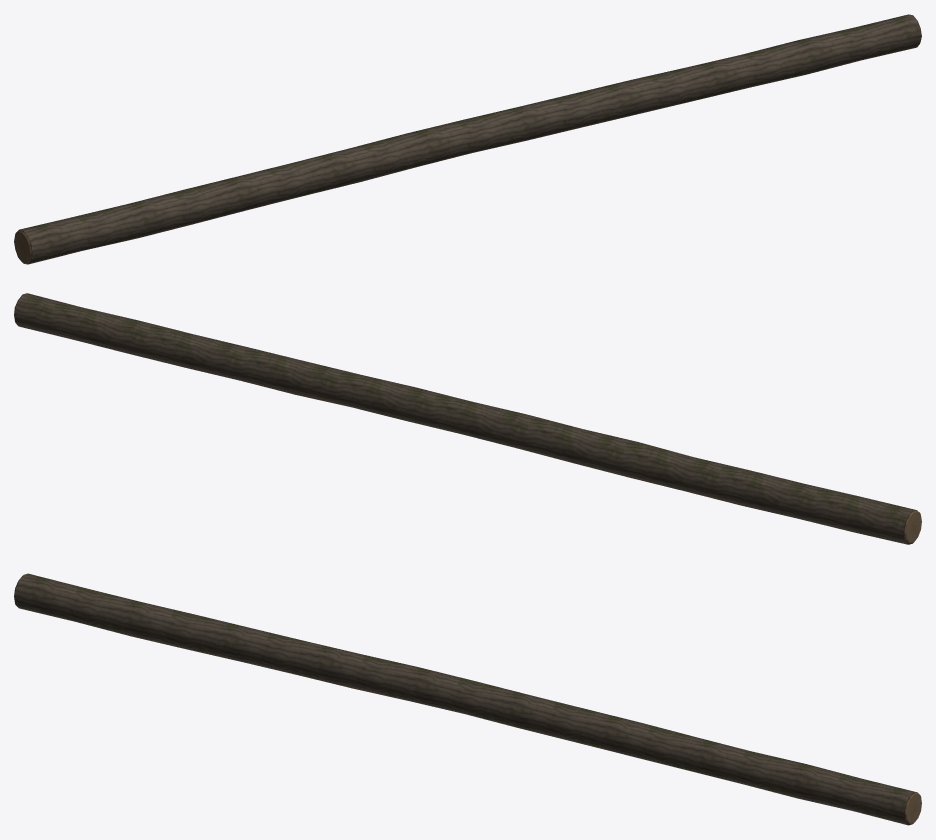
File: S7U_RoofBeam.fbx
The picture shows the model from 3 angles, top to bottom: view 1: azimuth 30°, elevation 25°; view 2: azimuth 150°, elevation 25°; view 3: azimuth 330°, elevation 25°; orthographic projection.
Parts seen in each view (by area): view 1: S7U_RoofBeam; view 2: S7U_RoofBeam; view 3: S7U_RoofBeam.
Boxes of the visible parts, x1,y1,x2,y2 form: S7U_RoofBeam: [14, 14, 921, 264]; S7U_RoofBeam: [14, 293, 921, 544]; S7U_RoofBeam: [14, 573, 921, 825].
Bounding box in the file's own units: 8.03 × 0.2923 × 0.2996.
